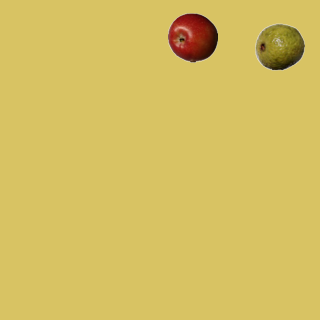Apple Braeburn: (167, 12, 217, 62)
Guava: (254, 21, 304, 71)
